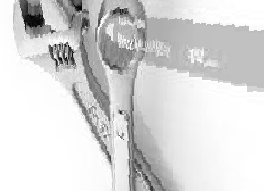wrench: (6, 1, 172, 190)
